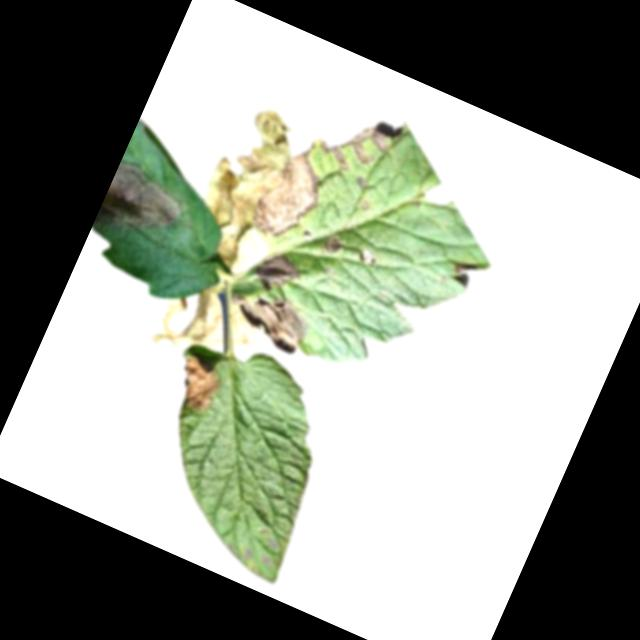Late_blight: (177, 95, 314, 277), (247, 140, 335, 250), (146, 272, 243, 365), (97, 163, 189, 247), (308, 106, 393, 183), (225, 285, 313, 356), (166, 353, 227, 415), (218, 303, 276, 360), (249, 245, 302, 300), (318, 232, 346, 262), (452, 257, 477, 281)
